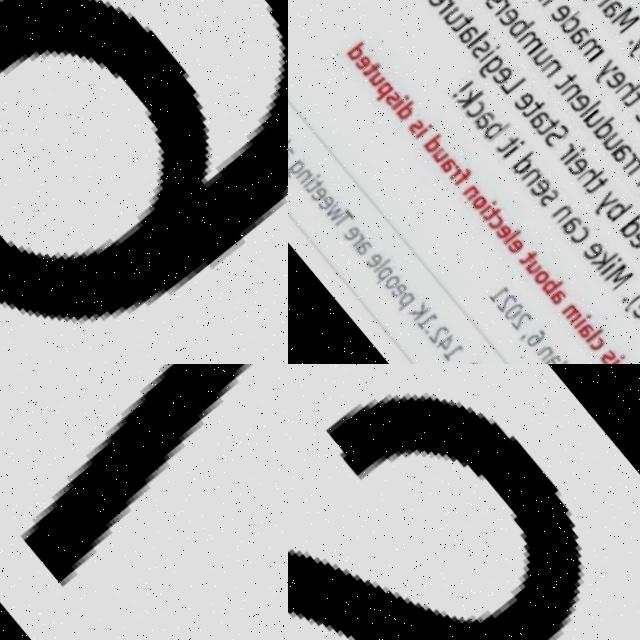0: (499, 290, 524, 317)
1: (413, 300, 440, 328), (484, 273, 509, 299), (439, 332, 464, 357)
2: (423, 314, 448, 340), (492, 282, 517, 307), (508, 300, 531, 323)
4: (434, 325, 456, 348)
6: (0, 0, 288, 364), (520, 315, 547, 344)
A: (563, 11, 593, 41), (523, 96, 552, 127), (469, 96, 498, 127), (453, 12, 482, 42), (556, 201, 585, 231), (608, 129, 634, 155), (545, 275, 569, 301), (435, 145, 459, 171), (538, 341, 561, 364), (353, 231, 374, 253), (574, 310, 595, 331), (597, 0, 624, 12), (288, 139, 294, 163)
B: (601, 182, 634, 217), (503, 0, 536, 34), (478, 105, 510, 138), (536, 263, 562, 290)
C: (460, 87, 489, 117), (564, 212, 591, 240), (585, 322, 607, 346), (484, 205, 503, 225), (634, 27, 640, 55)
D: (506, 138, 540, 172), (588, 102, 620, 135), (554, 0, 587, 31), (341, 33, 371, 64), (614, 199, 640, 232), (391, 92, 418, 120), (418, 123, 445, 151)
E: (523, 164, 553, 194), (508, 78, 537, 109), (577, 225, 606, 255), (601, 54, 629, 83), (565, 79, 593, 107), (562, 144, 589, 171), (487, 53, 514, 80), (349, 44, 373, 70), (494, 0, 520, 22), (544, 0, 574, 19), (622, 213, 640, 244), (502, 226, 525, 250), (386, 273, 408, 297), (313, 187, 335, 211), (491, 213, 512, 235), (625, 283, 640, 313), (362, 246, 383, 267), (307, 181, 327, 202), (339, 219, 359, 239), (629, 89, 640, 116), (421, 0, 451, 7)
F: (449, 159, 473, 183), (621, 140, 640, 169)
G: (473, 41, 508, 77), (288, 152, 306, 178)
H: (572, 148, 605, 183), (610, 61, 640, 94), (605, 345, 631, 364)
I: (14, 364, 242, 580), (498, 129, 525, 155), (561, 135, 586, 159), (475, 34, 500, 58), (597, 245, 621, 269), (412, 113, 435, 136), (474, 189, 497, 212), (569, 302, 591, 323), (602, 341, 623, 363), (389, 87, 410, 109), (299, 167, 320, 189)
J: (543, 347, 568, 364)
K: (451, 73, 484, 106), (586, 232, 617, 263), (404, 292, 430, 318)
L: (496, 60, 526, 92), (576, 87, 600, 110), (464, 21, 487, 44), (580, 315, 602, 337), (499, 219, 520, 240), (369, 249, 390, 270)
M: (575, 22, 606, 56), (512, 17, 543, 51), (602, 251, 632, 282), (609, 0, 640, 26), (557, 290, 582, 317)
N: (536, 45, 564, 73), (558, 69, 584, 96), (517, 155, 543, 182), (548, 191, 572, 217), (459, 174, 480, 196), (293, 162, 313, 183), (533, 334, 552, 355), (633, 159, 640, 184)
O: (467, 183, 490, 207), (379, 265, 401, 289), (529, 258, 551, 280)
P: (368, 71, 396, 99), (368, 257, 394, 283), (389, 283, 414, 308)
R: (552, 130, 577, 156), (616, 139, 637, 160), (444, 156, 463, 176), (347, 227, 364, 244), (431, 0, 456, 11), (489, 0, 509, 9)
S: (288, 364, 640, 640), (539, 109, 572, 144), (466, 27, 493, 55), (535, 176, 560, 201), (595, 335, 617, 359), (380, 82, 401, 104), (405, 110, 425, 131)
T: (492, 121, 521, 150), (518, 86, 546, 115), (550, 57, 578, 85), (448, 2, 475, 29), (534, 103, 560, 131), (583, 161, 609, 188), (329, 201, 355, 228), (358, 52, 383, 78), (620, 73, 640, 100), (479, 195, 501, 218), (514, 238, 536, 261), (303, 172, 323, 193), (613, 355, 640, 364)
U: (436, 0, 466, 24), (597, 118, 623, 145), (579, 95, 605, 122), (527, 36, 552, 62), (520, 248, 541, 270), (428, 138, 449, 160), (364, 64, 385, 86)
V: (632, 225, 640, 253)
W: (321, 196, 345, 222)
Y: (586, 43, 620, 78), (586, 176, 619, 211), (619, 17, 640, 52)
